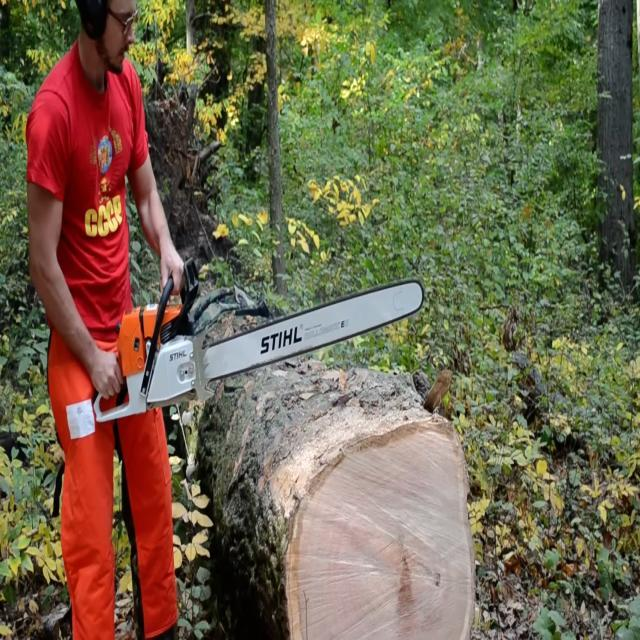Chainsaw: (88, 266, 440, 429)
